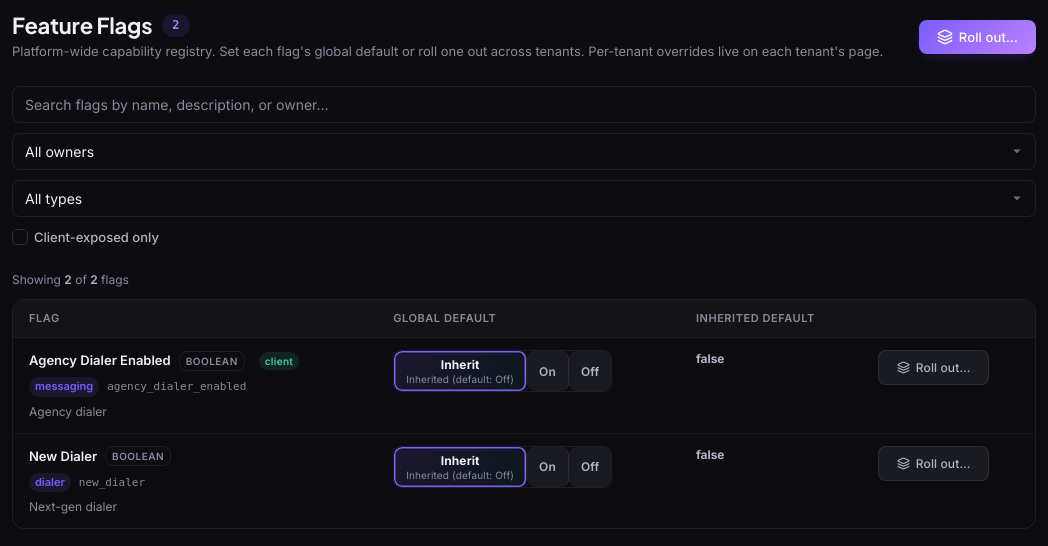
Scenario: SAFeatureFlagsPage — filters & rollout › search narrows the catalog
Expected: the text "New Dialer" is shown, [29,448,97,464]
Type "next-gen" into the field named "search feature flags" at (524,104), box [12,86,1036,123]
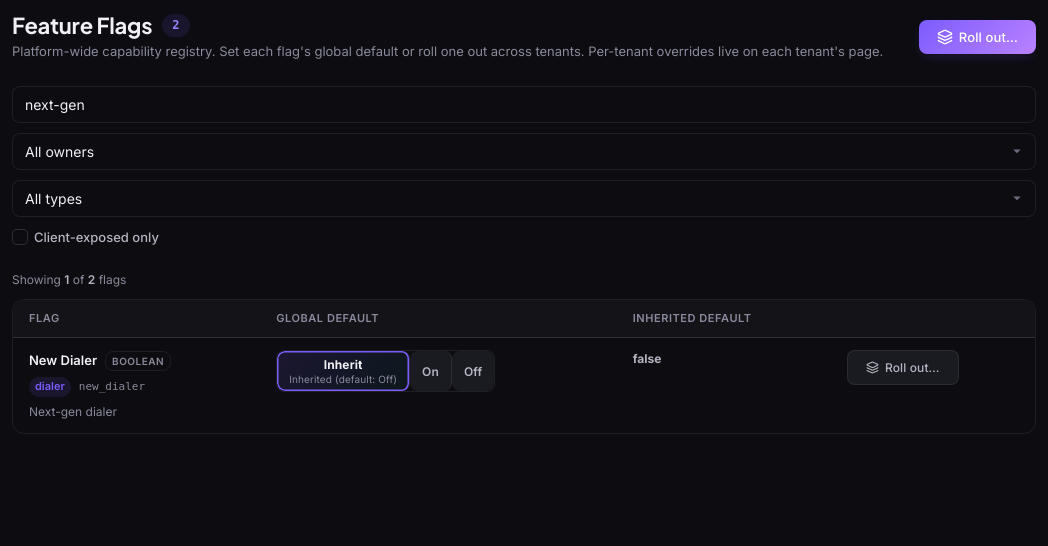
Expected: the text "New Dialer" is shown, [29,352,97,368]
Result: the text "Agency Dialer Enabled" is gone
